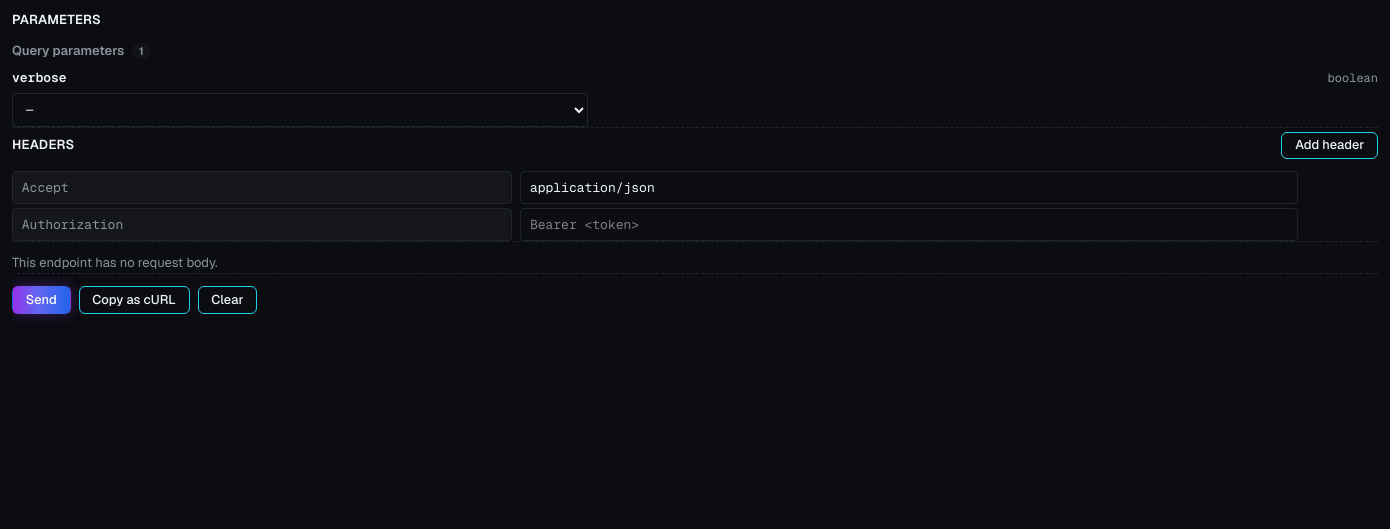
Scenario: TryItOutForm › shows upstream 404 in the response panel without an error alert
Click the button "Send" at coordinates (41, 300), box [12, 286, 70, 314]
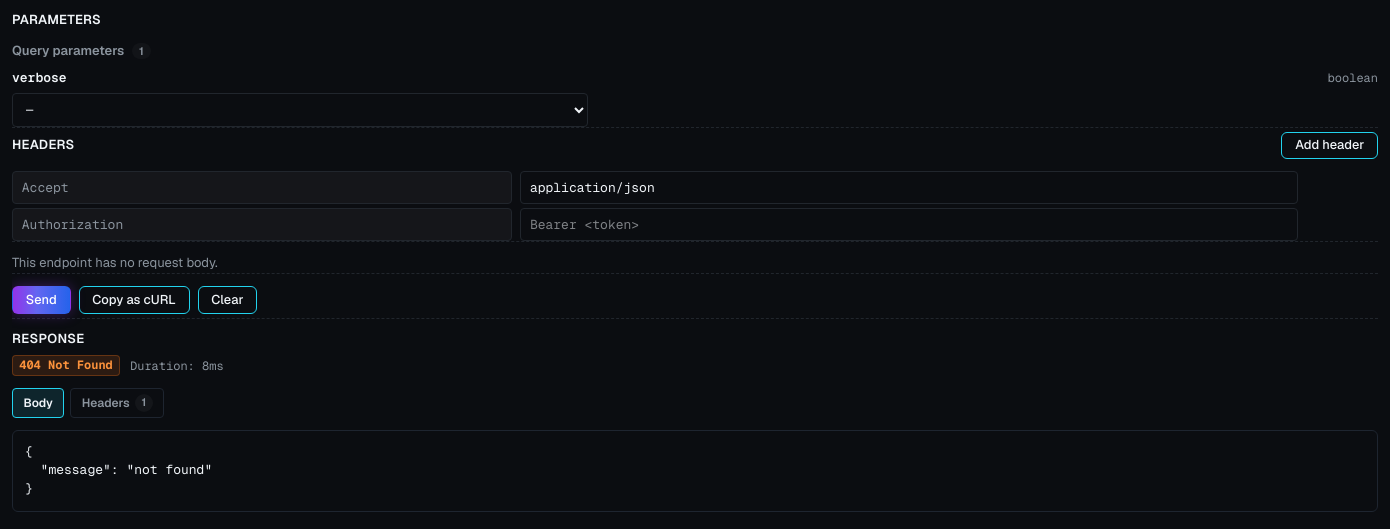
expect the element "Response" is shown: met, box [12, 318, 1378, 512]
expect the text "404 Not Found" is shown: met, box [12, 356, 120, 376]
